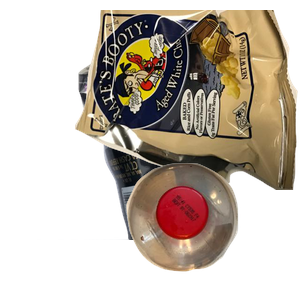glass: (37, 120, 231, 300)
metal: (75, 56, 198, 185)
plastic: (124, 161, 300, 300)
trash: (75, 10, 300, 190)
